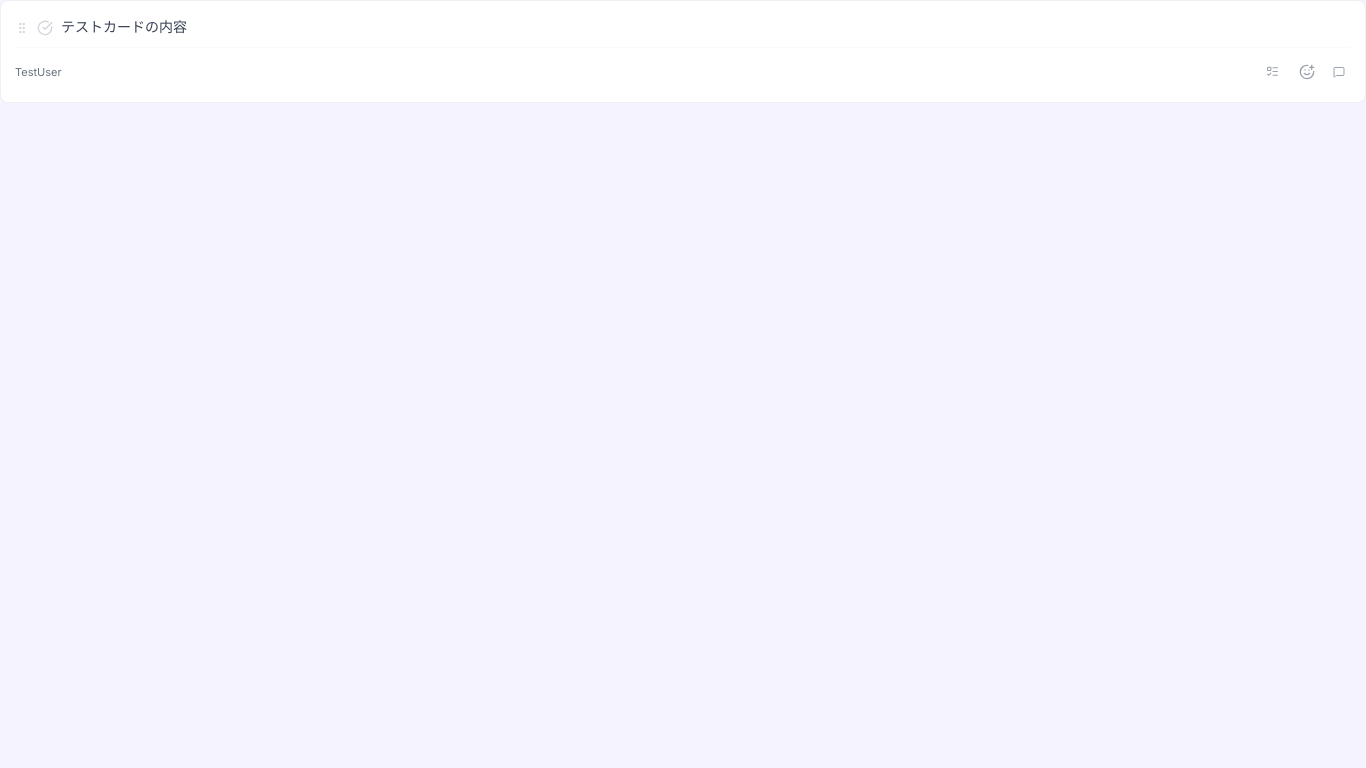
Test case: CardItem › clicking card text opens detail modal
Click the button with aria-label "カード詳細を表示" at (124, 26), box [61, 18, 187, 35]
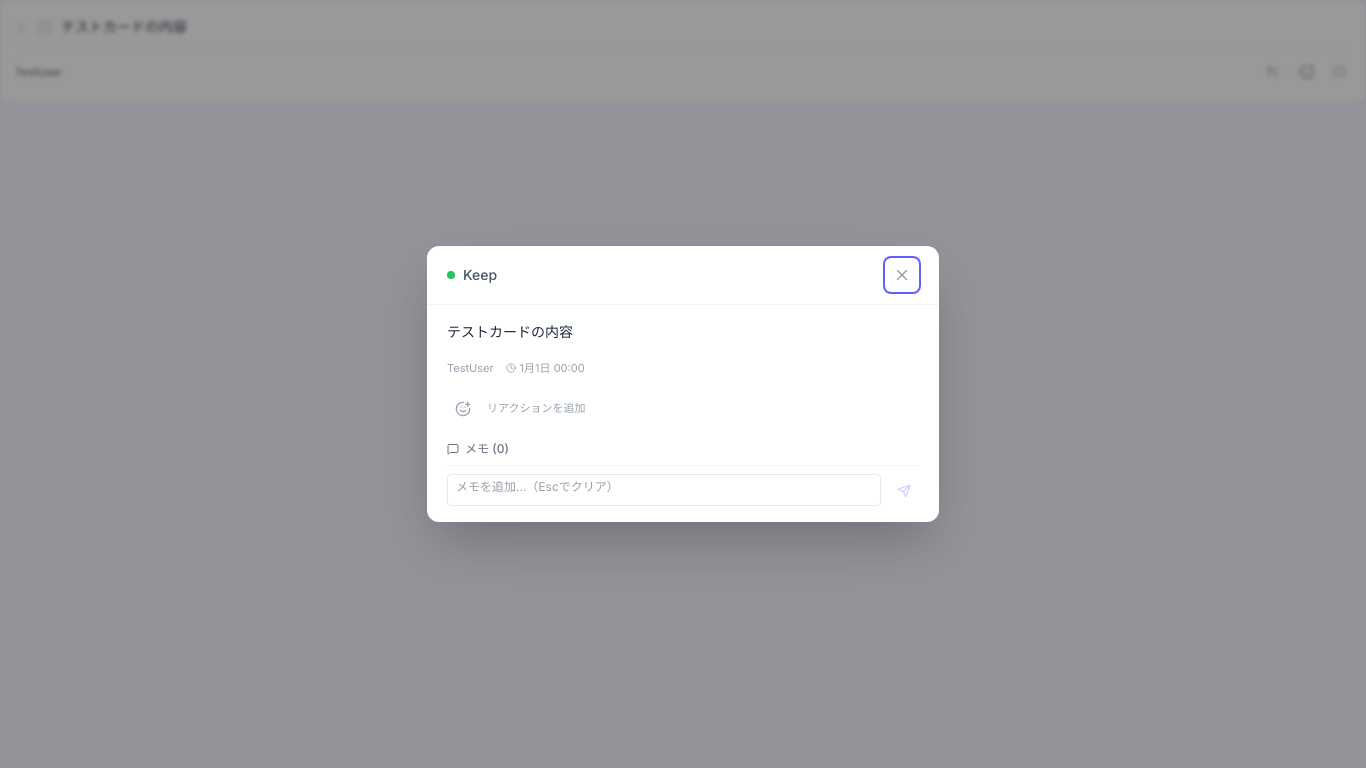
Check: the dialog is shown
